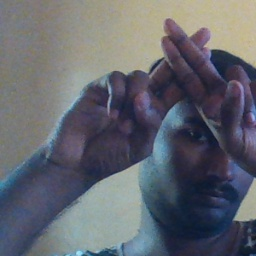F: (117, 13, 249, 141)
